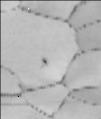good_void: (41, 57, 47, 64)
